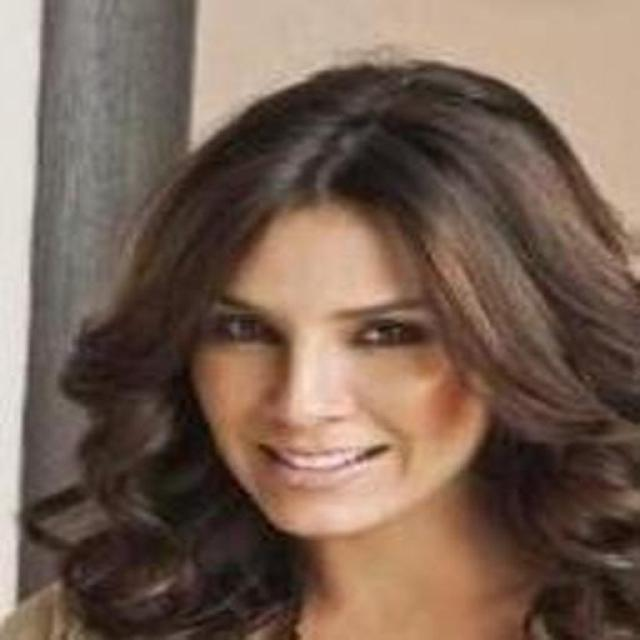bareface: (180, 79, 577, 543)
